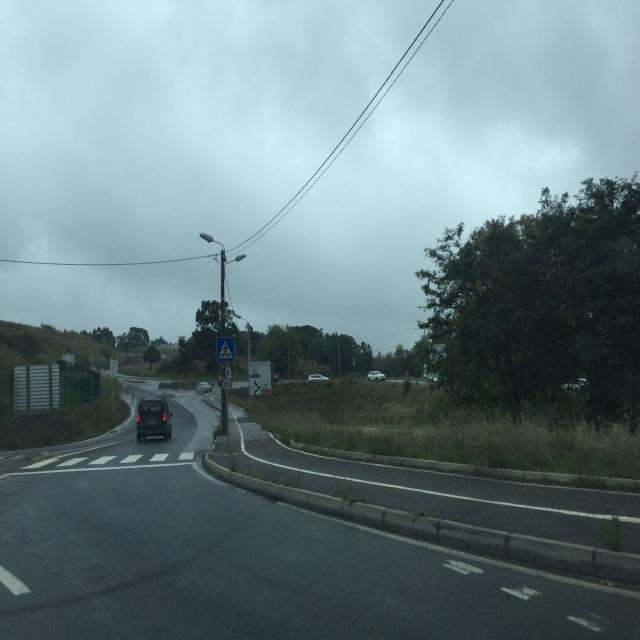car: (135, 396, 173, 443), (307, 373, 331, 383), (366, 370, 386, 381), (196, 382, 212, 394)
